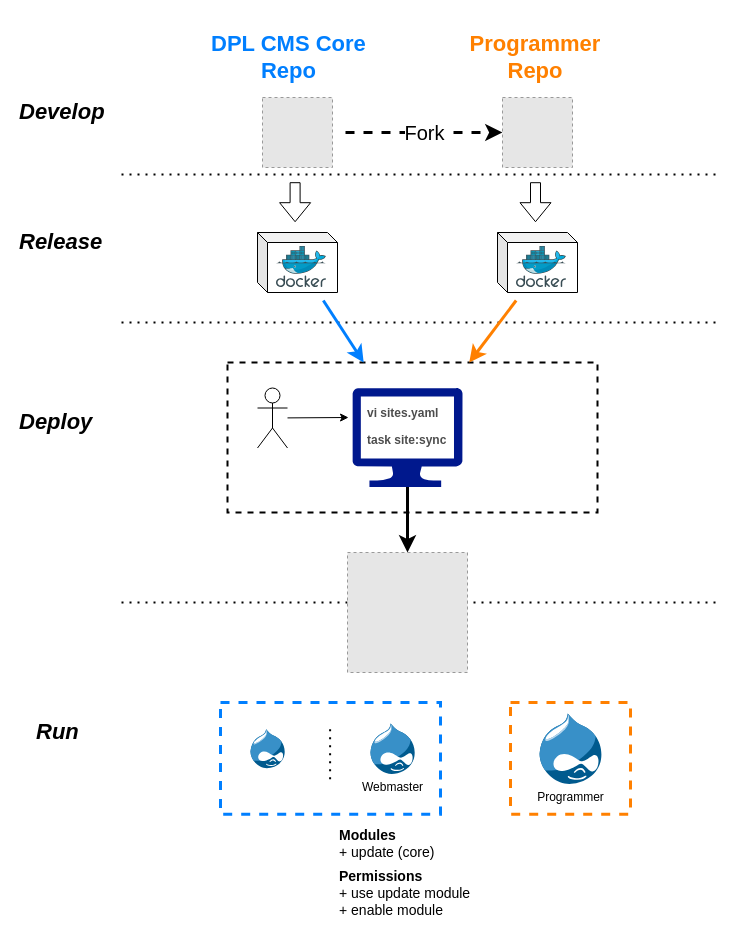
Image size: 740x935. Some labels were removed from this diagram. Grey dashed boxes stand in for pictures. Here are the shapes that lost their labels. From the top down, the centre of each, then its label:
the point at 272,417: operator
the point at 267,748: Redaktør
